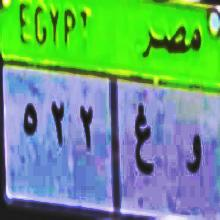2: (49, 92, 67, 155), (78, 100, 96, 161)
5: (20, 93, 38, 148)
ghayn: (132, 101, 153, 186)
waw: (182, 125, 204, 184)
